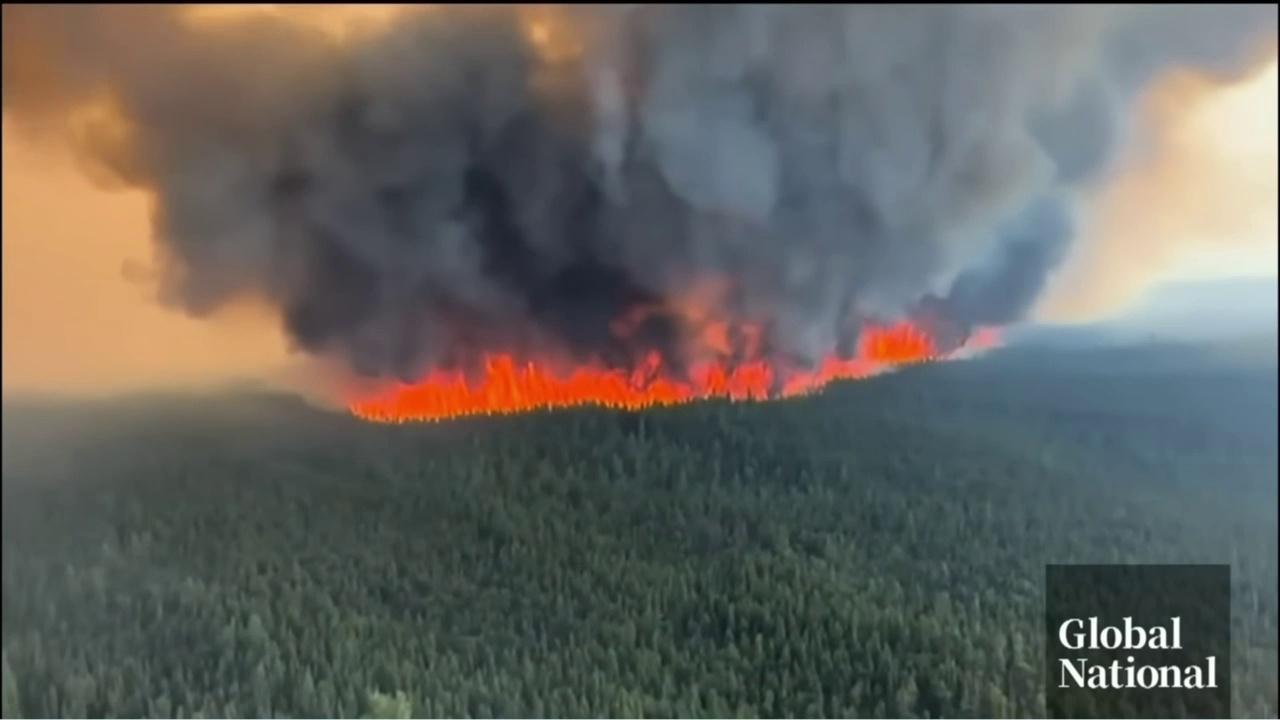fire: (347, 275, 1005, 424)
smoke: (2, 3, 1277, 419)
